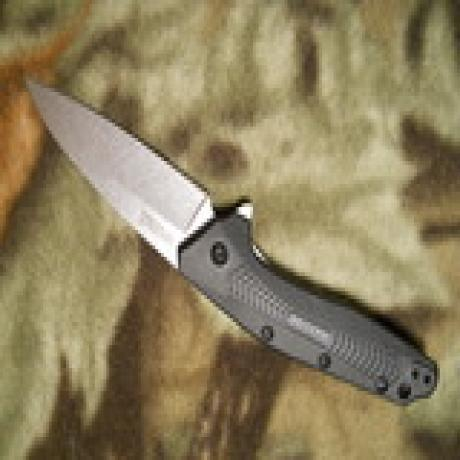weapon: (26, 76, 436, 408)
